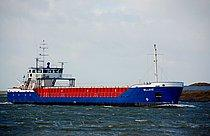Ship: (5, 45, 187, 108)
